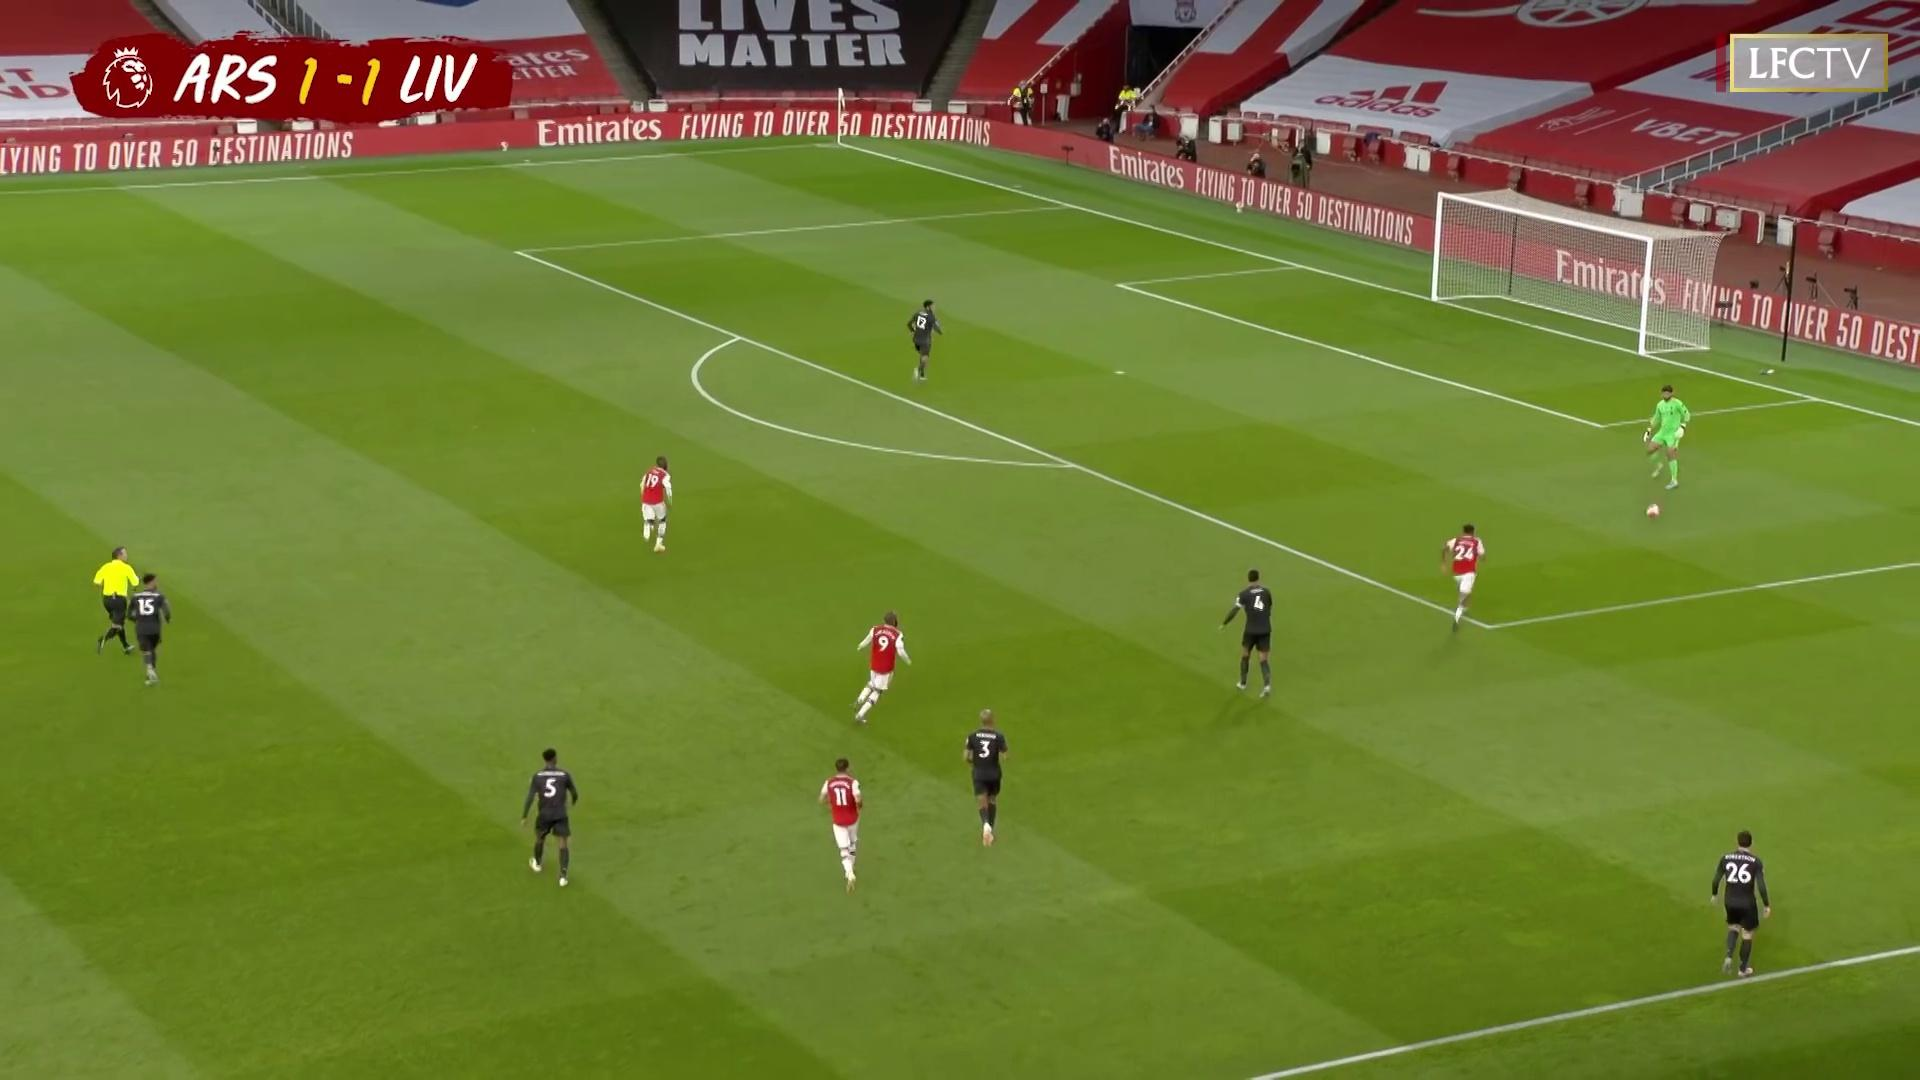ball: (1646, 502, 1662, 520)
